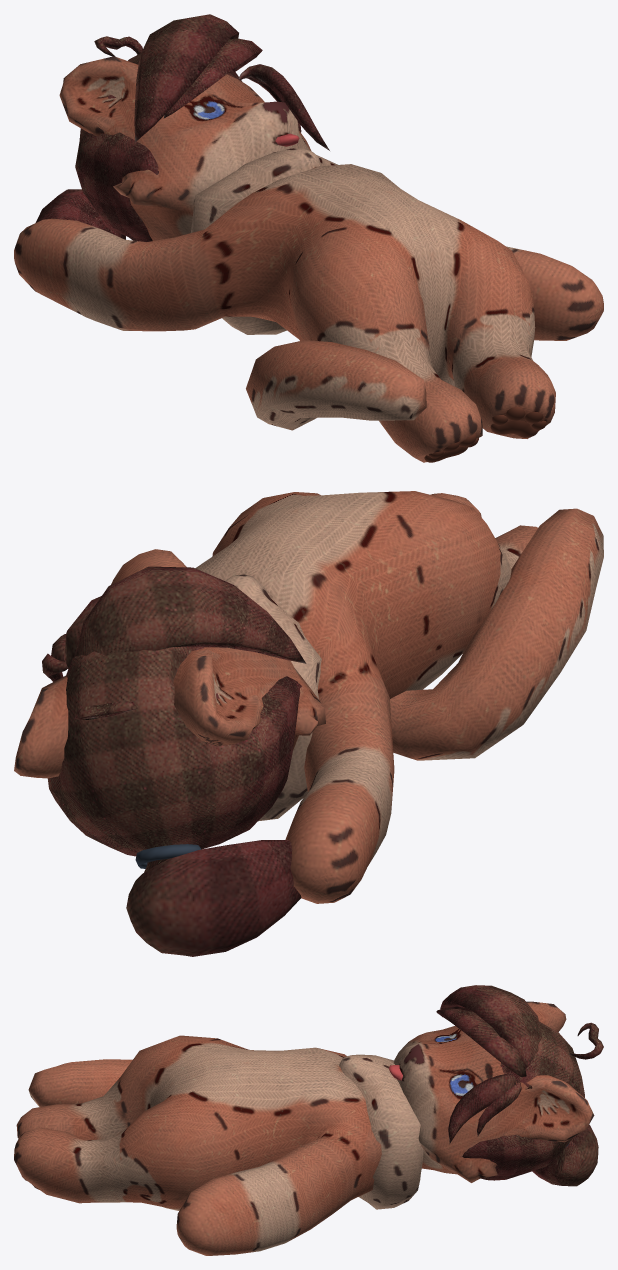
Rendered from RahiPlushFlop.fbx.
3 renders of one model, top to bottom at view 1: azimuth 30°, elevation 25°; view 2: azimuth 150°, elevation 25°; view 3: azimuth 270°, elevation 25°, orthographic. The views are drawn at different scales.
Parts seen in each view (by area): view 1: PlushRahi; view 2: PlushRahi; view 3: PlushRahi.
Part boxes in pixels (x1,y1,x2,y2): PlushRahi: [14, 14, 603, 462]; PlushRahi: [14, 491, 603, 956]; PlushRahi: [14, 985, 603, 1255].
Bounding box in the file's own units: 92.11 × 61.42 × 149.
1 material, 1 textured.
